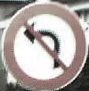Don't turn left: (3, 4, 83, 86)
